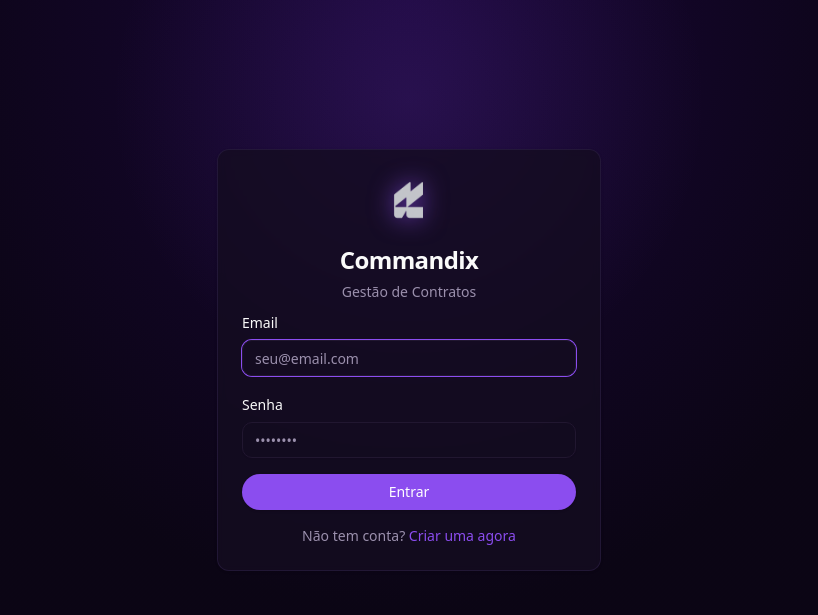
Test: Login Page › deve exibir mensagem de erro com credenciais inválidas
Type "wrong@example.com" into the field labelled "Email". click: (409, 358)
box: [242,340,576,376]
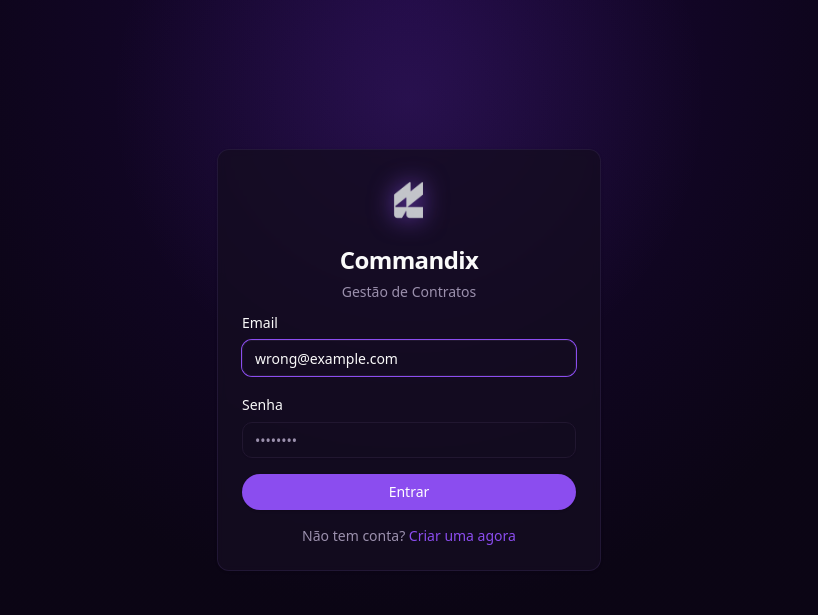
Type "wrongpassword" into the password field labelled "Senha". click: (409, 440)
box: [242,422,576,458]
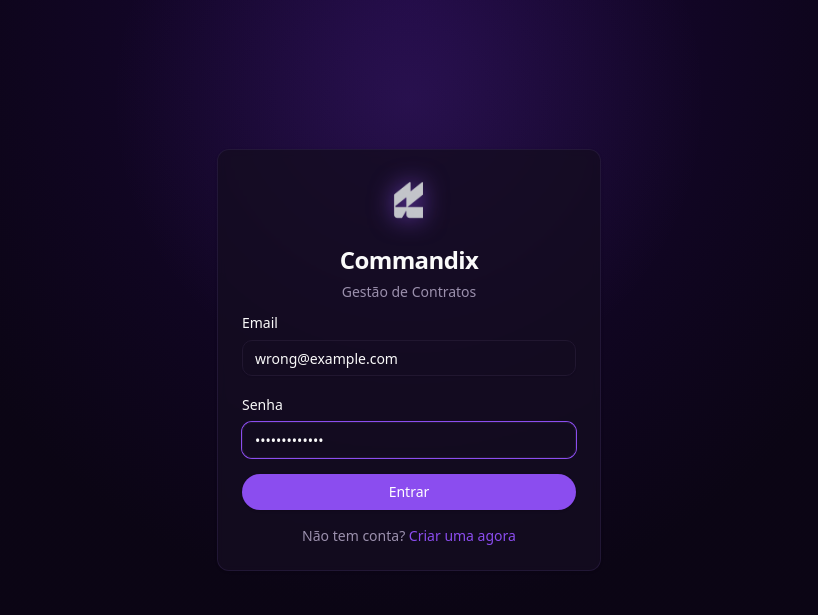
Click the button "Entrar". click: (409, 492)
box: [242,474,576,510]
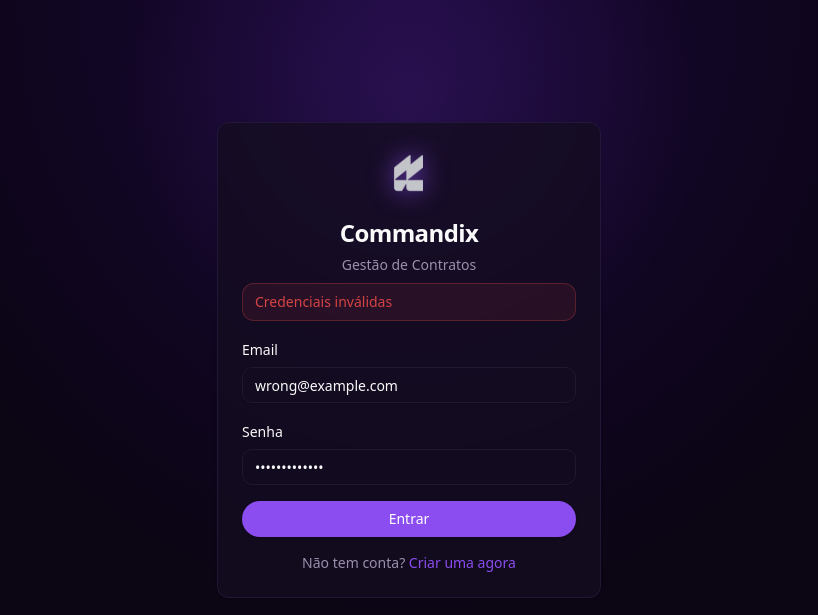
Result: the text "Credenciais inválidas" is shown at [242,283,576,321]
